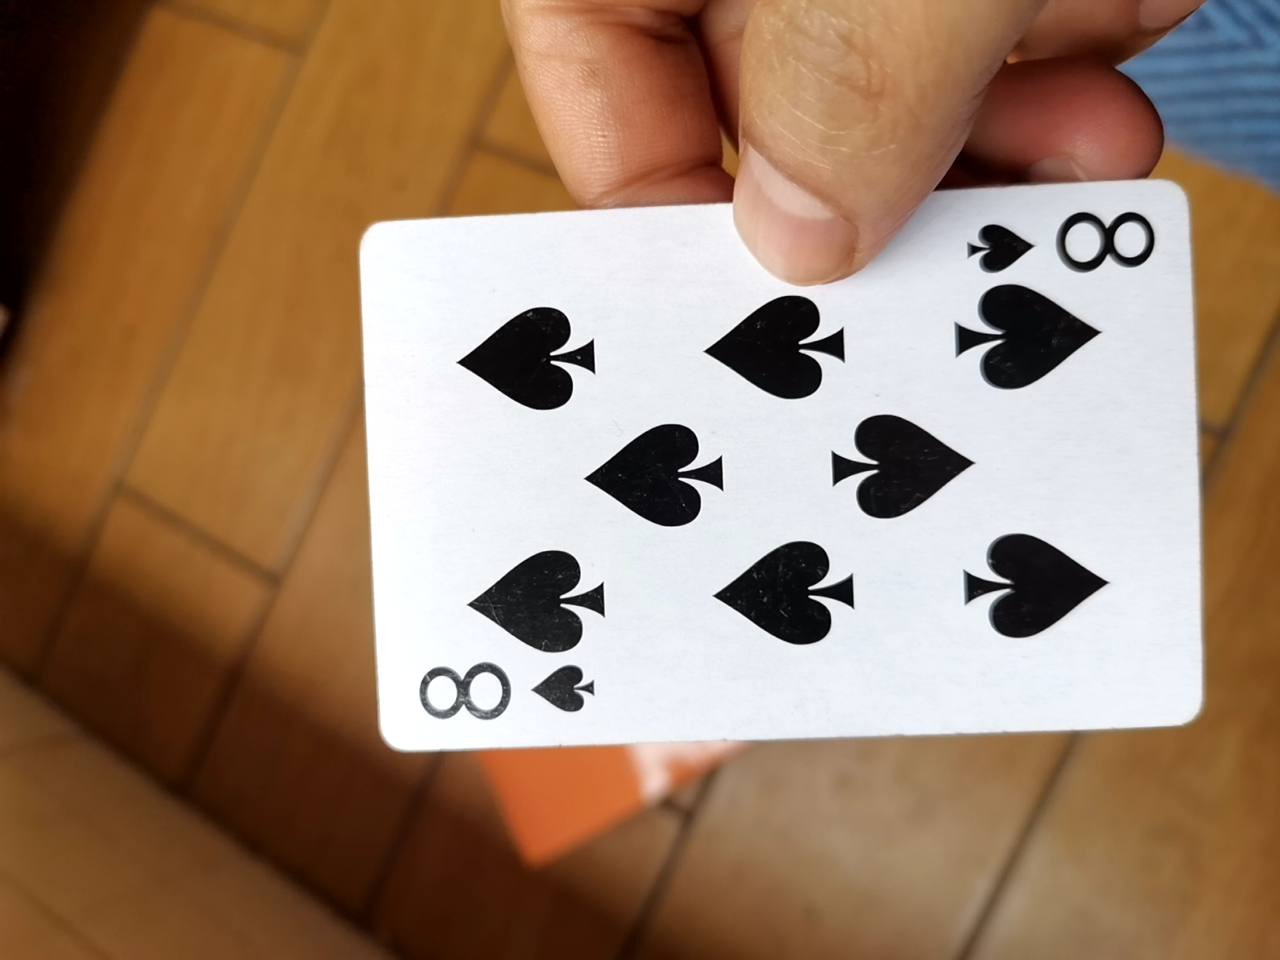ht 8: (346, 176, 1208, 768)
